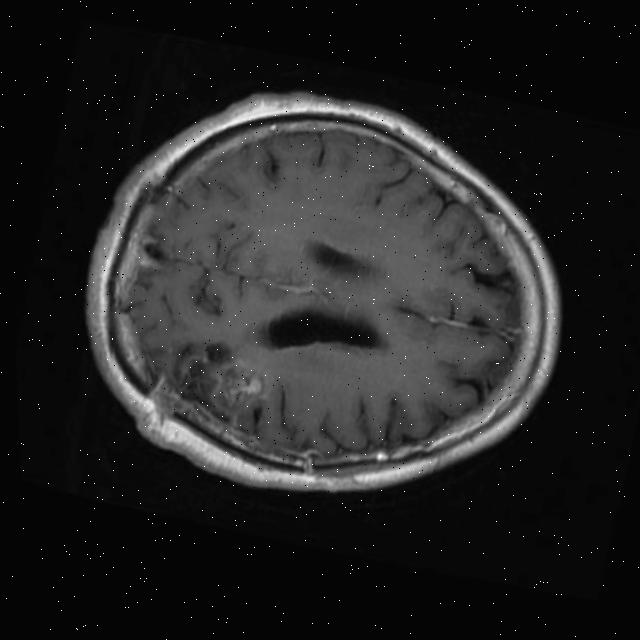Glioma: (211, 358, 270, 421)
